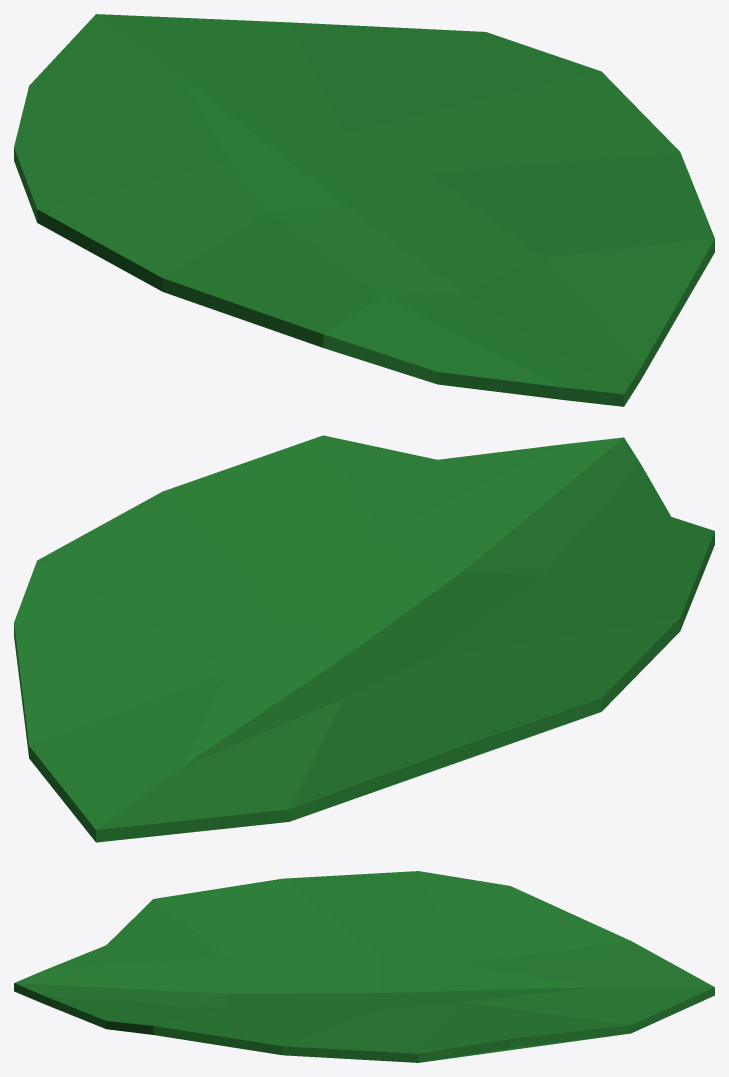
Rendered from MagicBean_Leaf.fbx.
3 renders of one model, top to bottom at view 1: azimuth 30°, elevation 25°; view 2: azimuth 150°, elevation 25°; view 3: azimuth 270°, elevation 25°, orthographic. The views are drawn at different scales.
Visible parts, largest first — view 1: Bean_Leaf; view 2: Bean_Leaf; view 3: Bean_Leaf.
Boxes of the visible parts, x1=… form: Bean_Leaf: x1=14, y1=14, x2=714, y2=406; Bean_Leaf: x1=14, y1=435, x2=714, y2=842; Bean_Leaf: x1=14, y1=871, x2=714, y2=1062.
Bounding box in the file's own units: 14.17 × 1.75 × 22.96.
